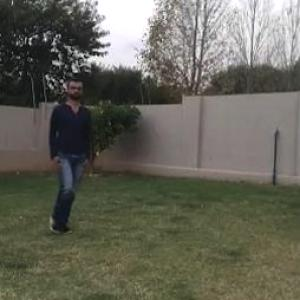follow: (48, 71, 87, 225)
